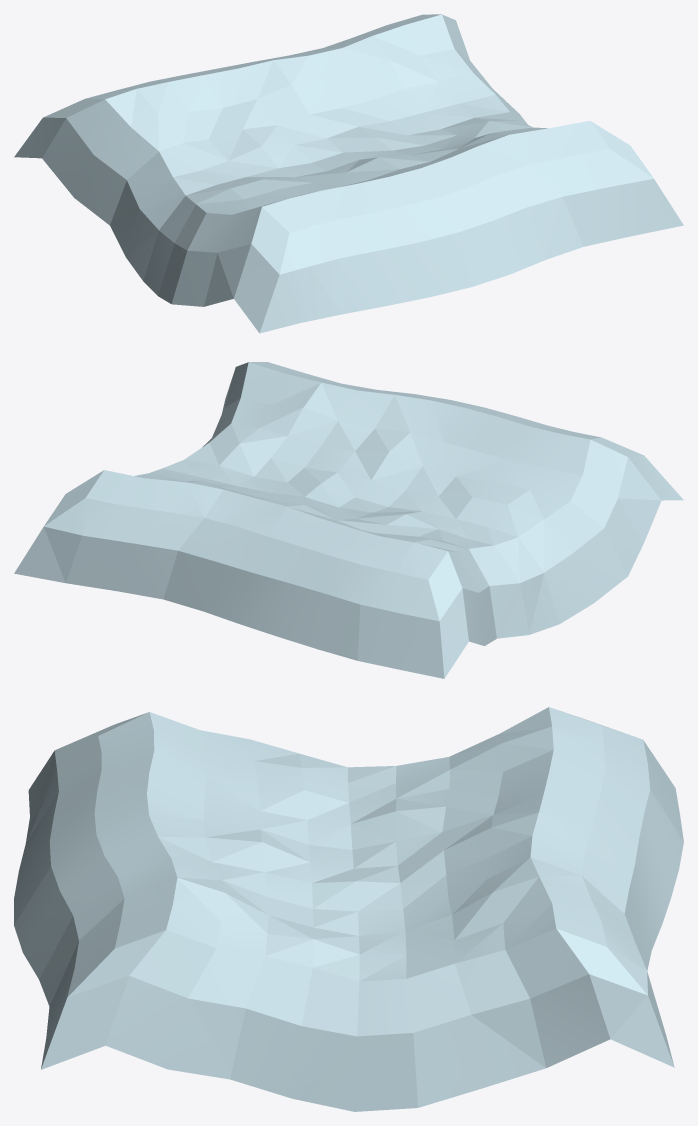
File: Zanja01.glb
The picture shows the model from 3 angles, top to bottom: view 1: azimuth 30°, elevation 25°; view 2: azimuth 150°, elevation 25°; view 3: azimuth 270°, elevation 25°; orthographic projection. The views are drawn at different scales.
Visible parts, largest first — view 1: SM_Env_Trench_01_Snow; view 2: SM_Env_Trench_01_Snow; view 3: SM_Env_Trench_01_Snow.
Boxes of the visible parts, x1,y1,x2,y2 form: SM_Env_Trench_01_Snow: (14, 14, 683, 333); SM_Env_Trench_01_Snow: (14, 362, 683, 678); SM_Env_Trench_01_Snow: (14, 707, 683, 1111).
Bounding box in the file's own units: 6.76 × 1.74 × 6.6.
Materials: 1 (1 with a texture image).
